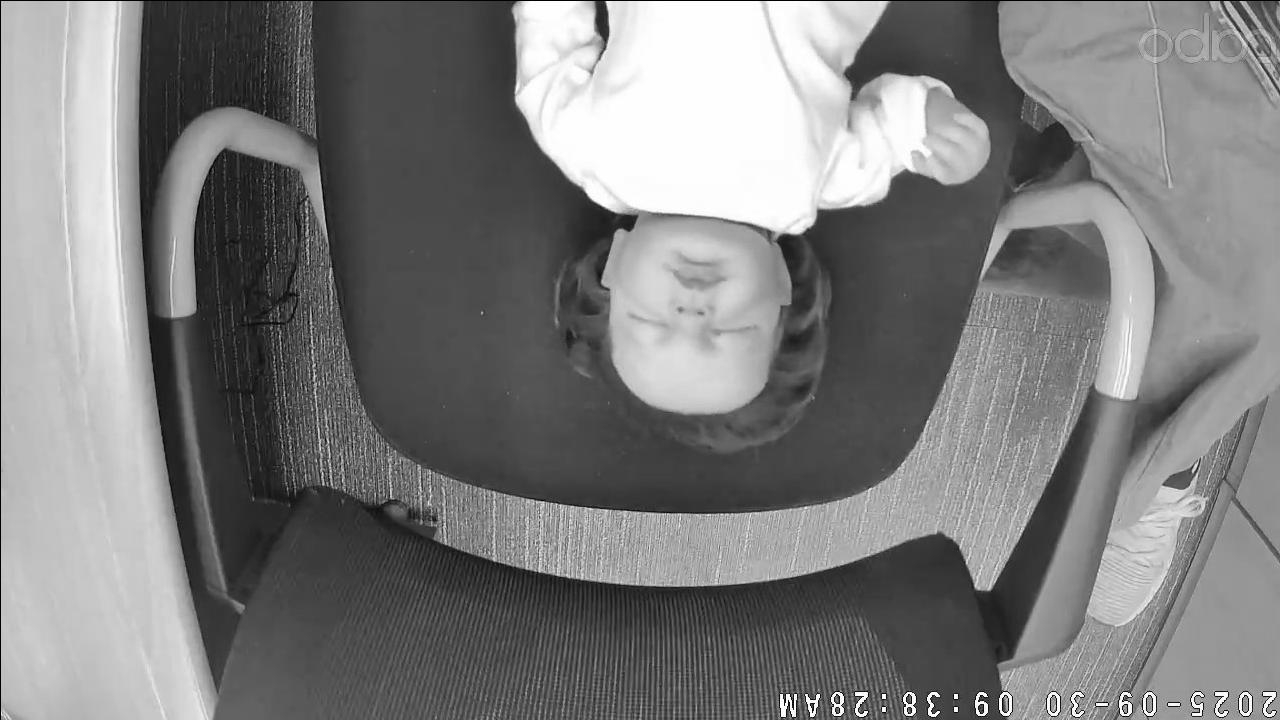hand: (906, 105, 989, 185)
